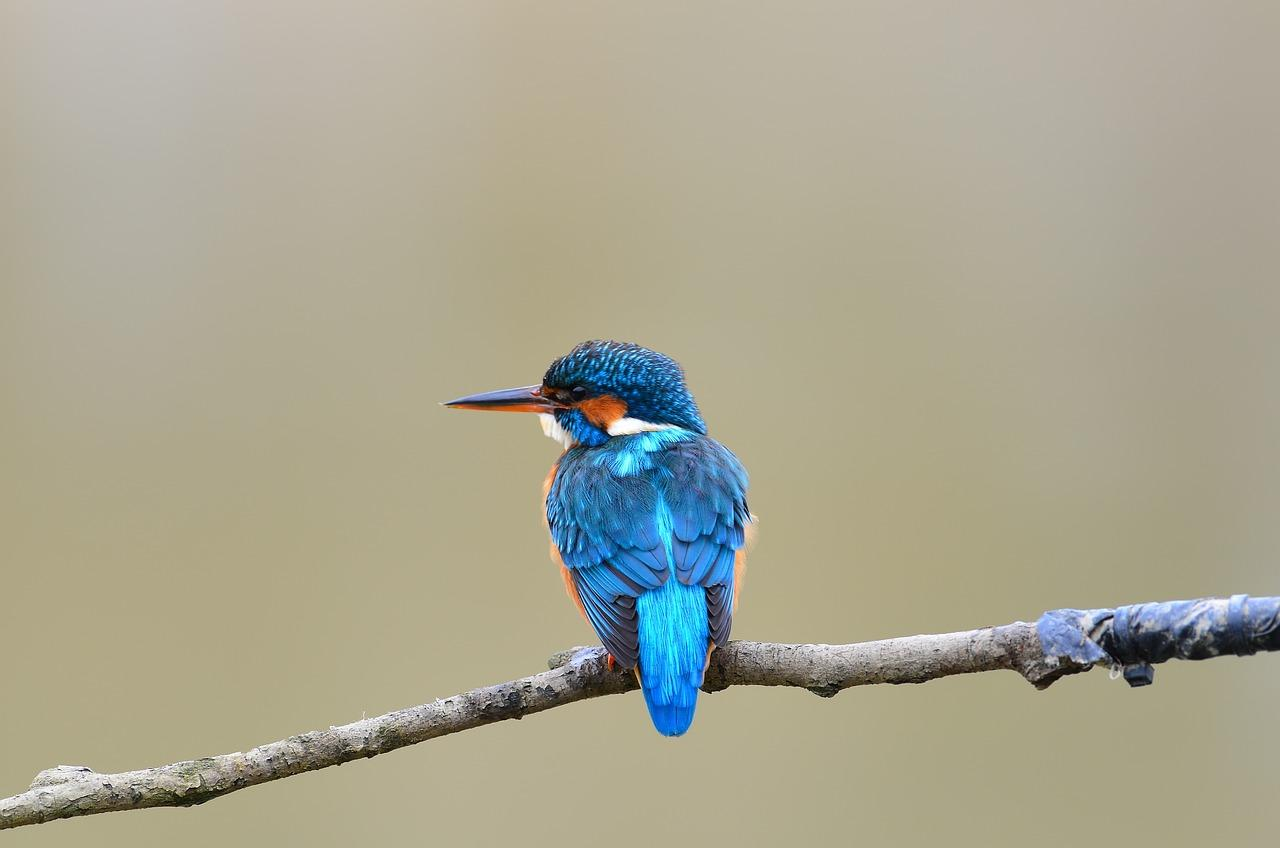bird: (447, 341, 752, 735)
